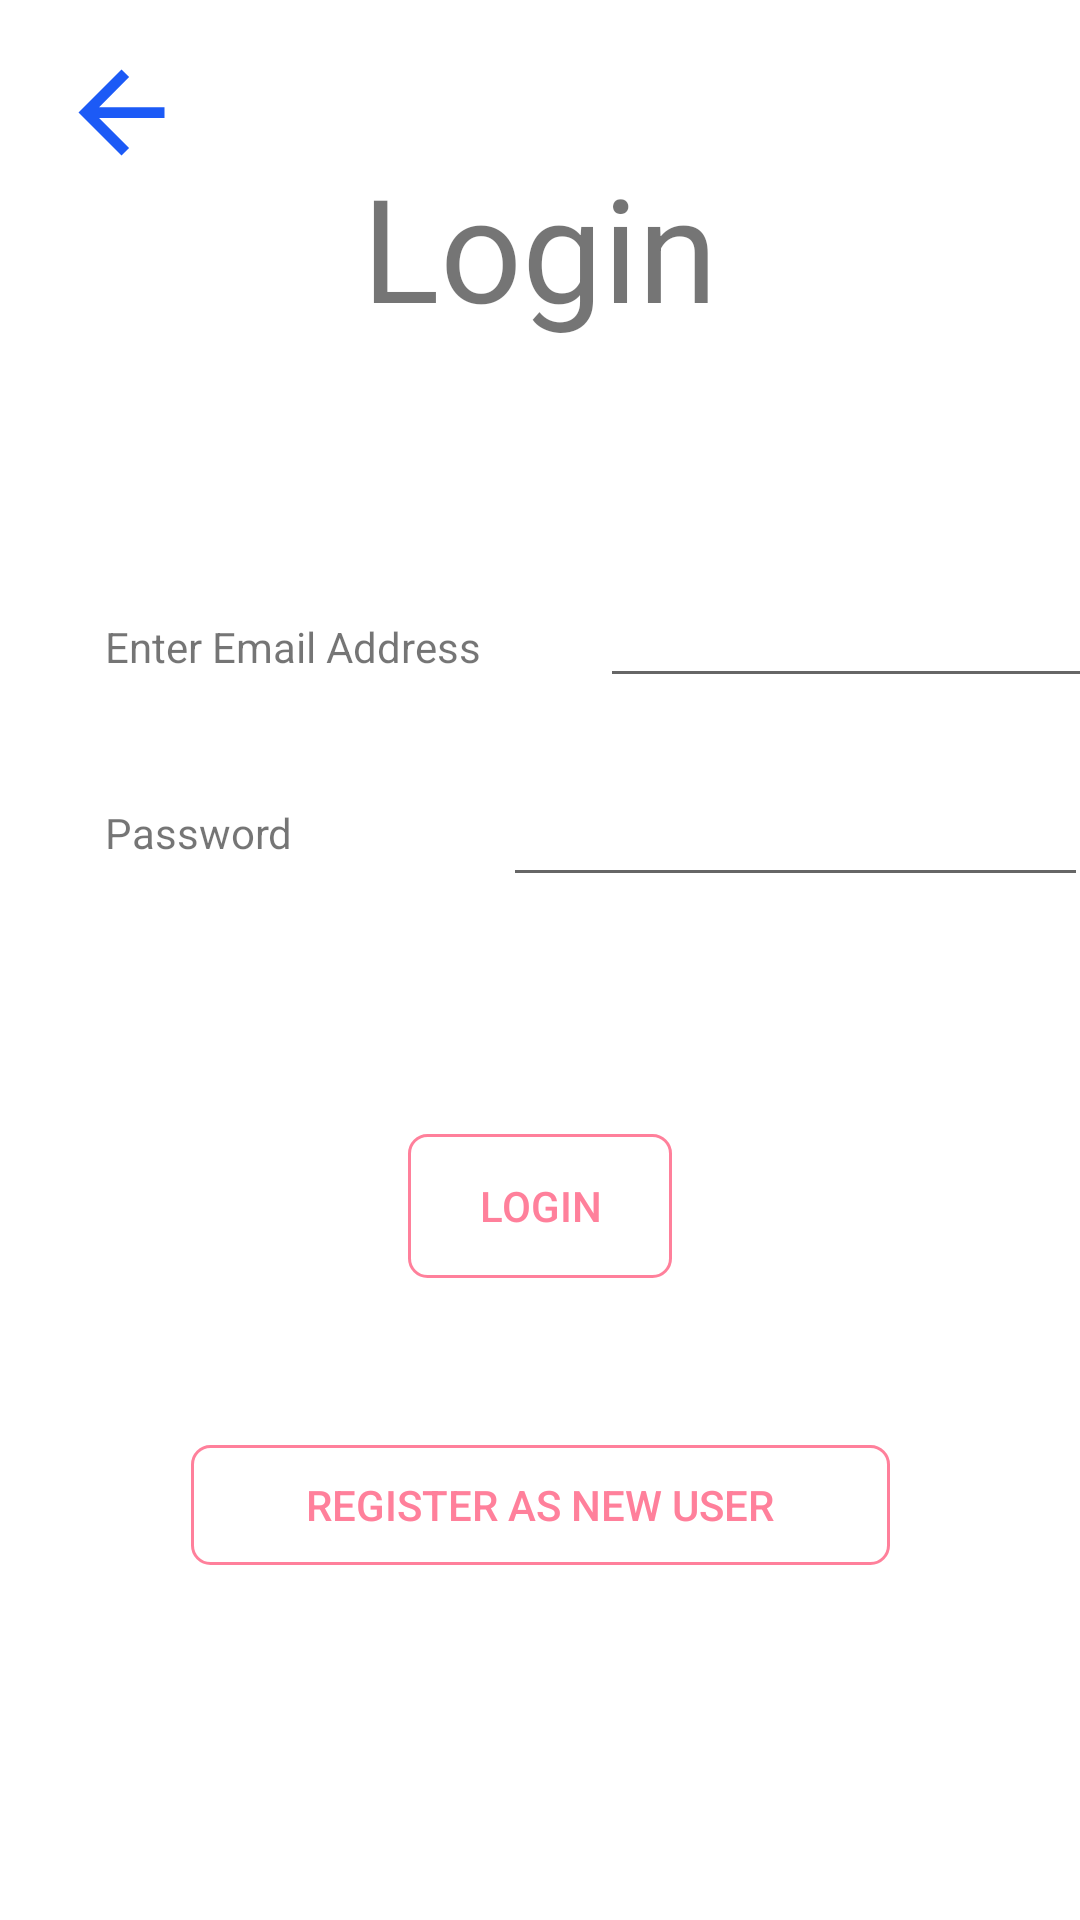

Icon click points for this 1080px x 1920px phone screenshot, format (x=x, y=y):
arrow back: (x=121, y=112)
